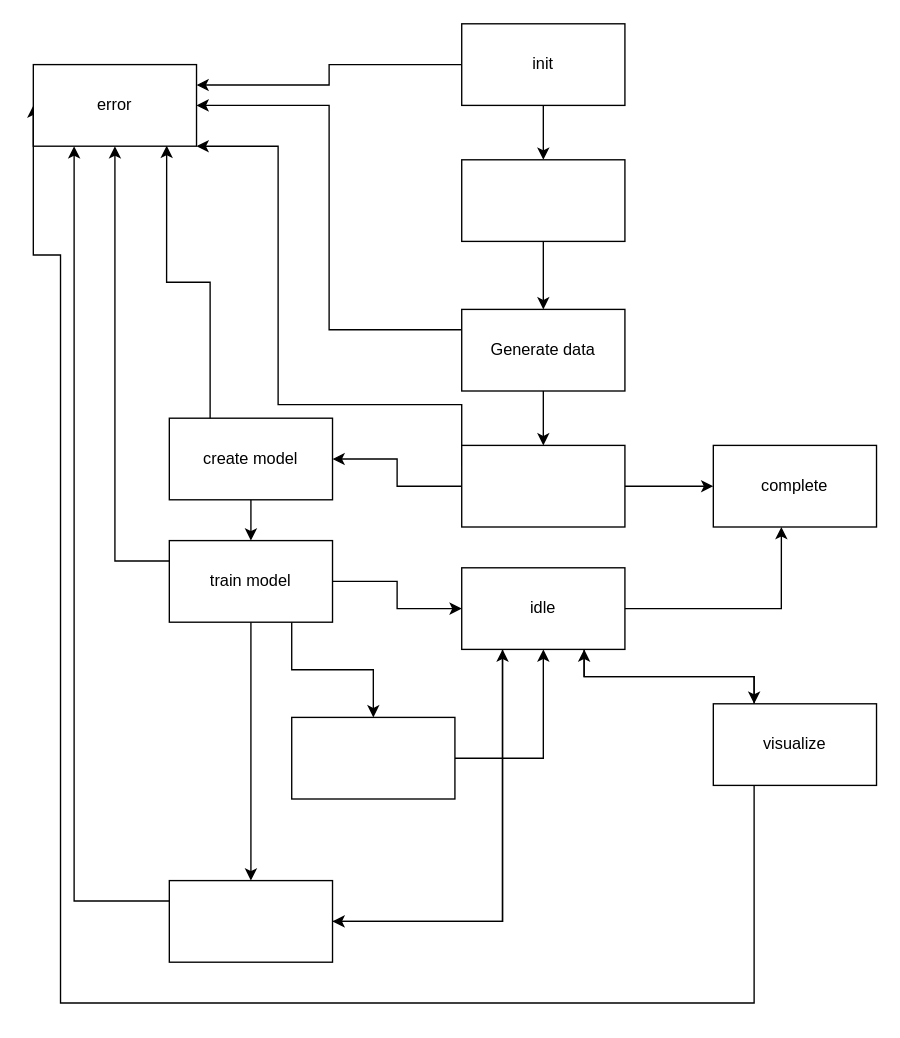
This 900x1038 diagram has some shape labels left out. The box of each missing label's shape, as (x1, y1, x2, y2) in pixels:
Load Model: (460, 158, 625, 241)
predict: (168, 879, 333, 962)
save data: (460, 444, 625, 527)
Save Model: (290, 716, 455, 799)
